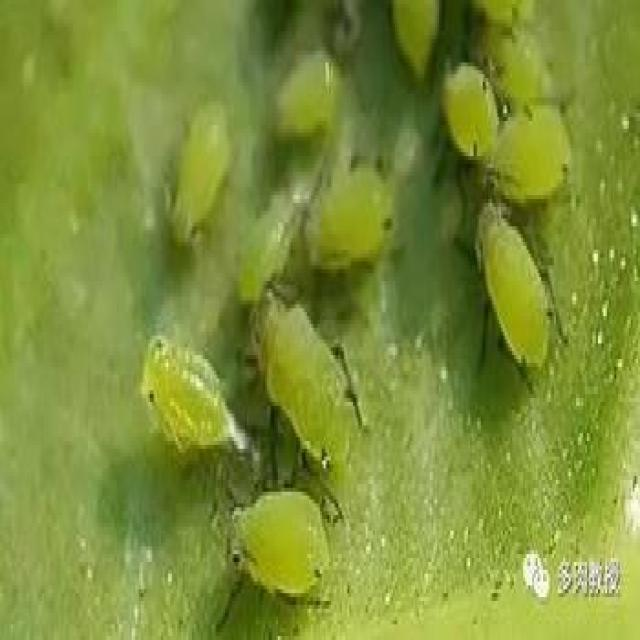aphid: (242, 266, 378, 512), (444, 183, 578, 430), (201, 445, 340, 609), (134, 312, 233, 490), (158, 99, 235, 258), (481, 98, 584, 208), (300, 170, 406, 266), (280, 32, 348, 140), (436, 64, 502, 172)
